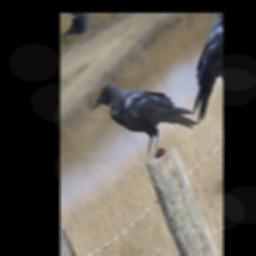Crow: (87, 38, 199, 187)
